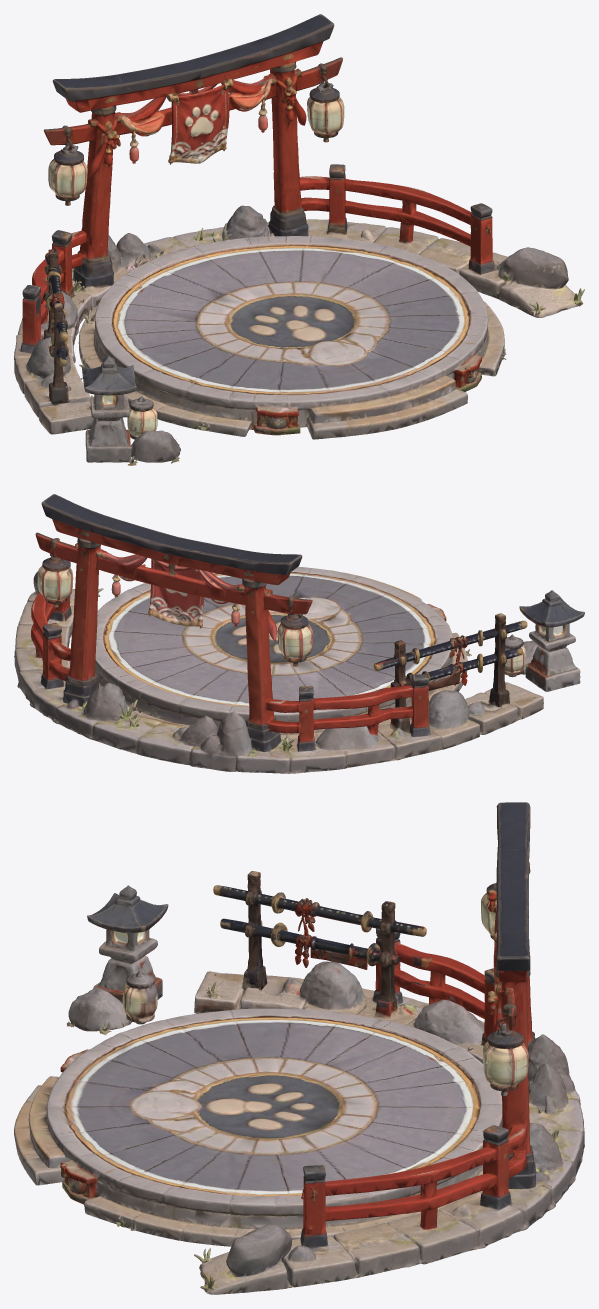
File: torii-stage.glb
The picture shows the model from 3 angles, top to bottom: view 1: azimuth 30°, elevation 25°; view 2: azimuth 150°, elevation 25°; view 3: azimuth 270°, elevation 25°; orthographic projection. The views are drawn at different scales.
Bounding box in the file's own units: 1.84 × 0.7302 × 1.42.
Materials: 1 (1 with a texture image).
